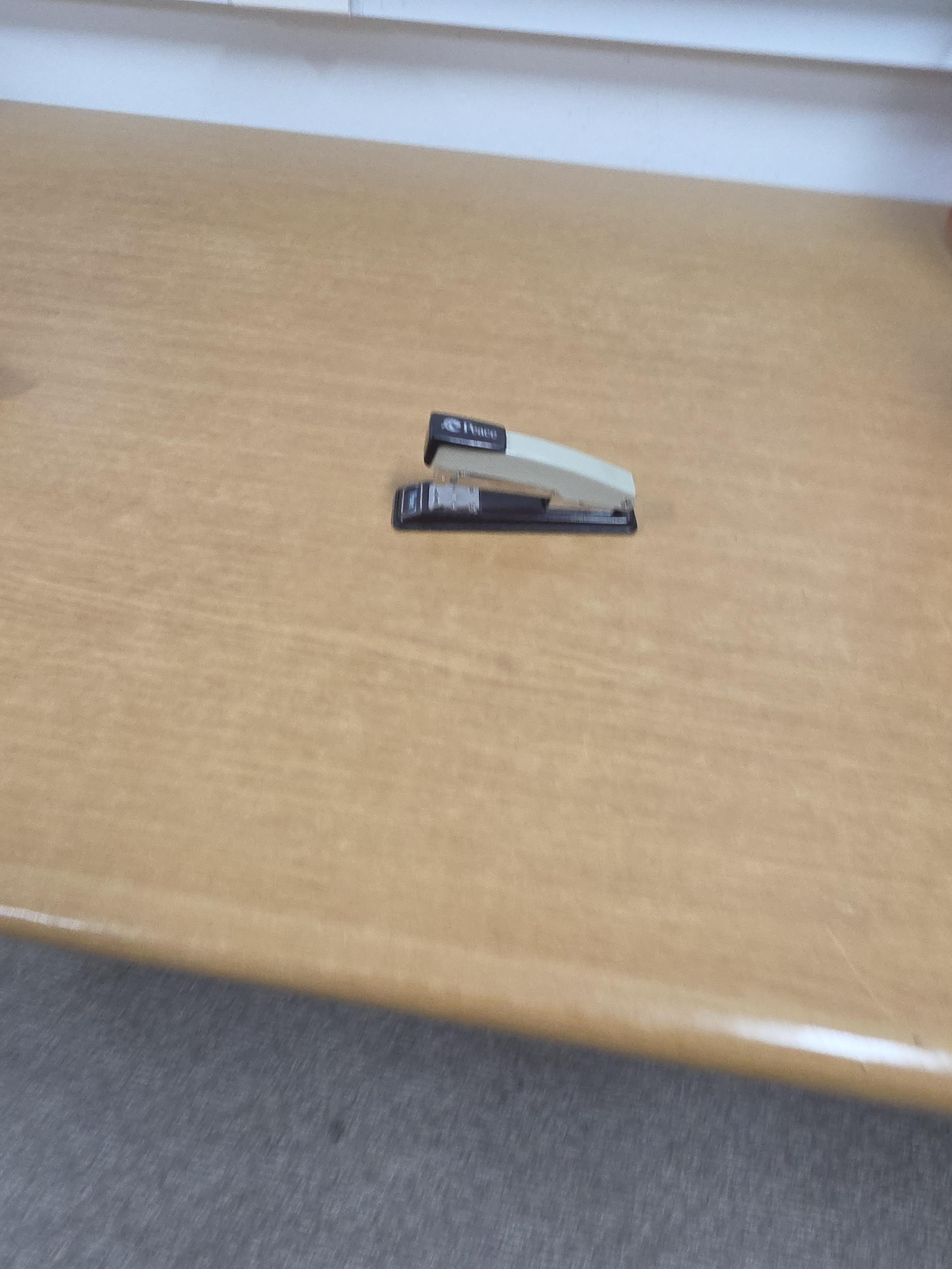stapler: (390, 411, 638, 536)
